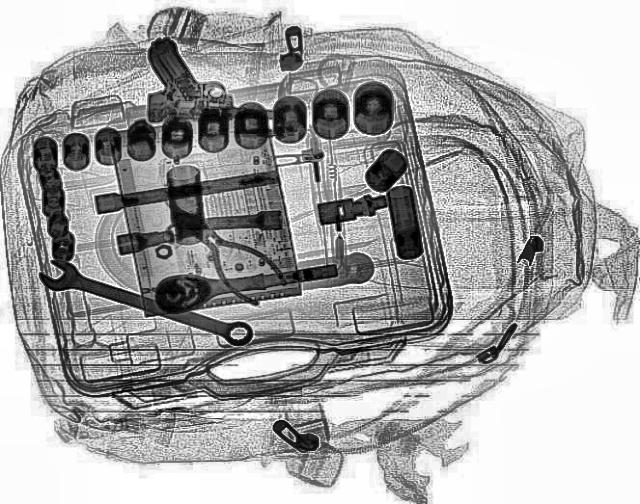Gun: (140, 38, 304, 126)
Pliers: (153, 198, 297, 308)
Wrench: (32, 256, 260, 352)
